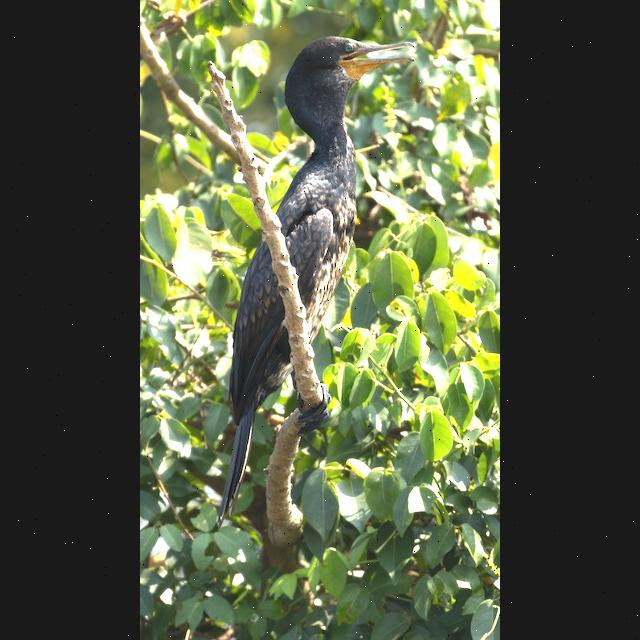cormorant: (195, 22, 422, 532)
